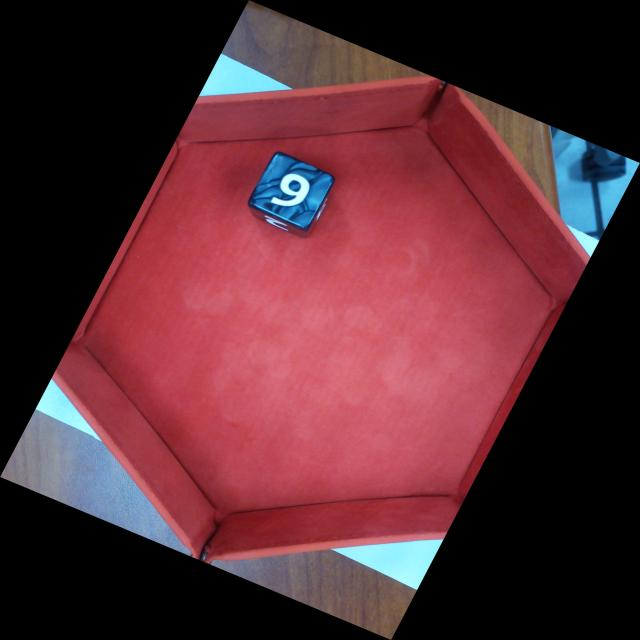dice: (249, 152, 336, 227)
